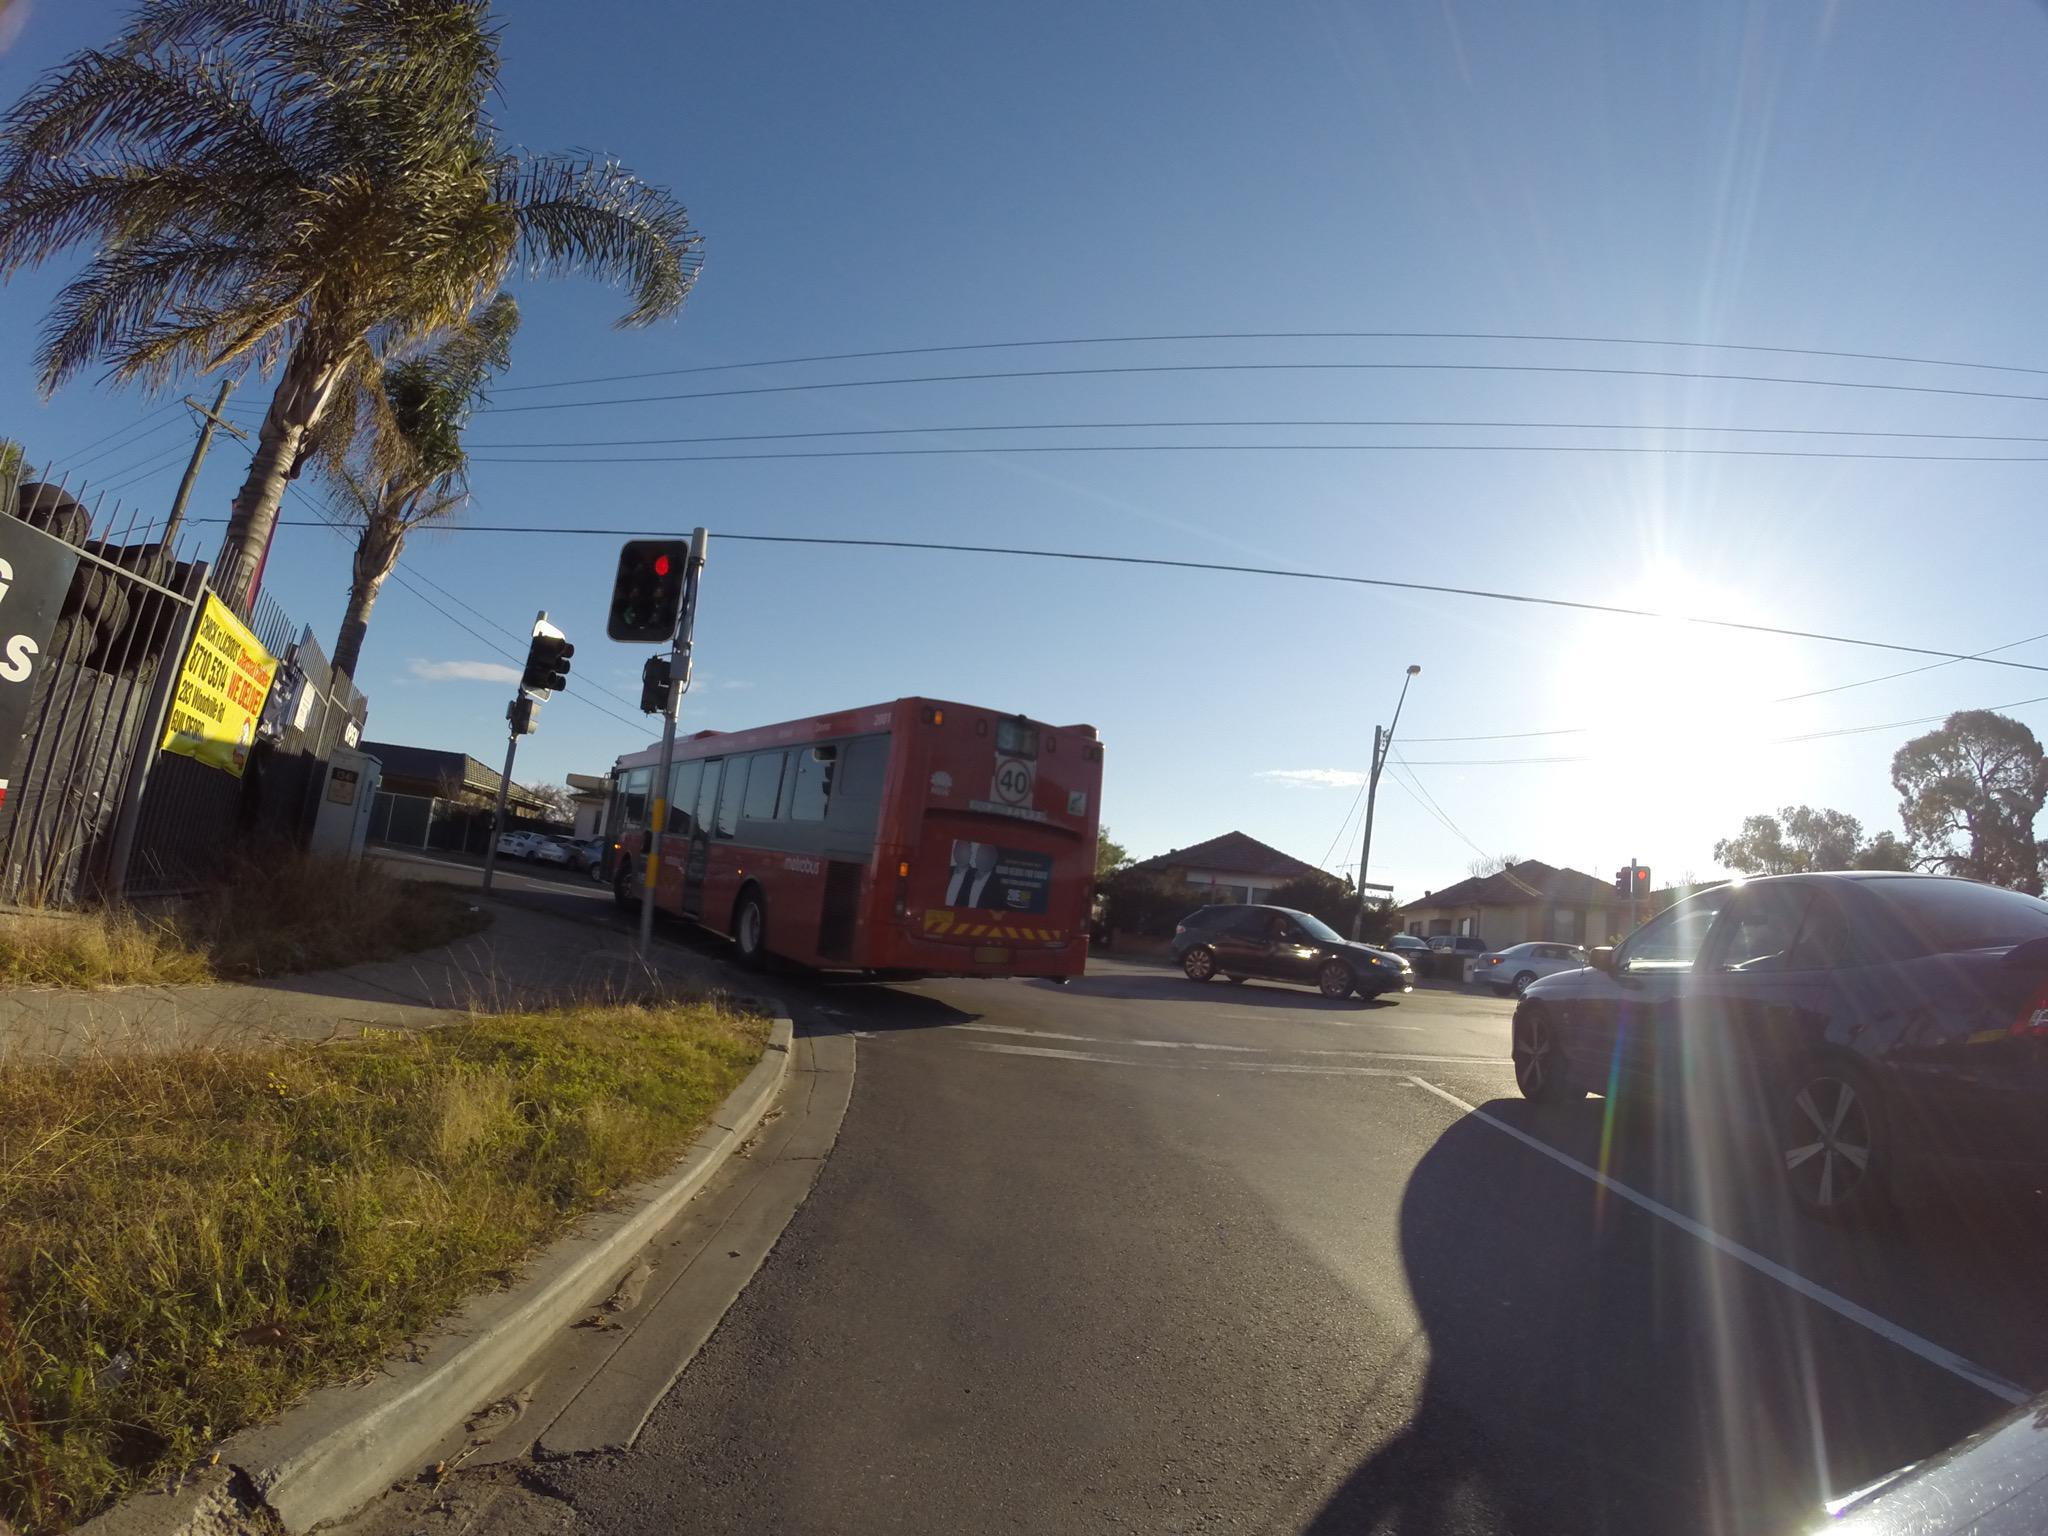vinyl banner: (140, 576, 285, 800)
